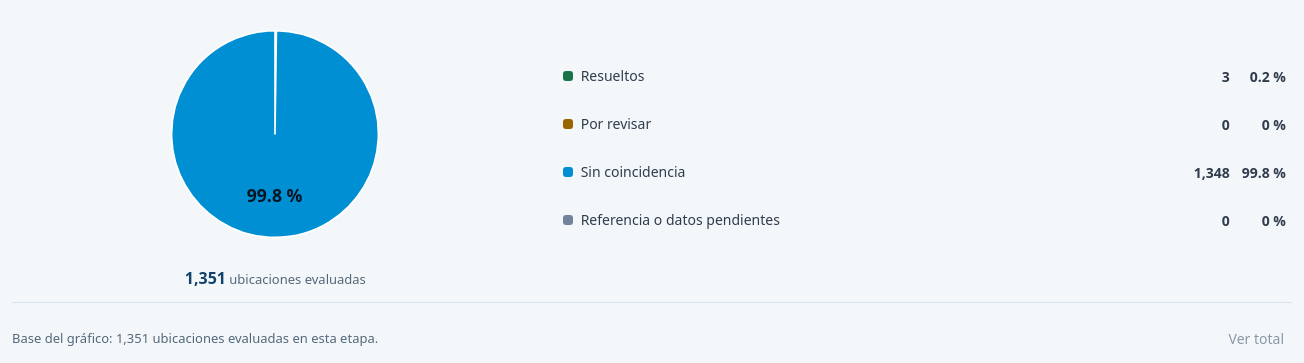
Scenario: interactive stage distributions › keeps a small category visible and inspectable instead of rounding its slice away
The image size is (1304, 363).
Expected: the element with class "stage-pie-segment" is shown, x1=275 y1=31 x2=277 y2=134
Step 1. Click the button named "Resueltos: 3 de 1,351" → [613, 76], box x1=555 y1=54 x2=1188 y2=98
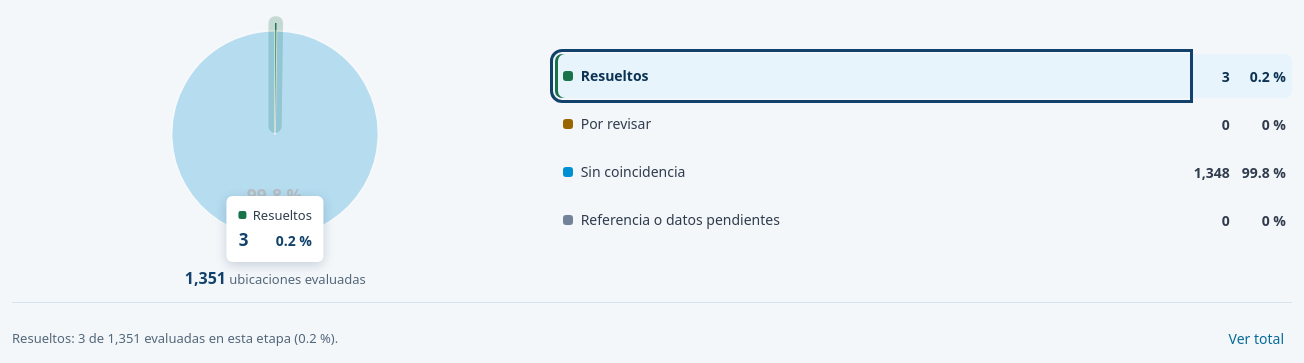
Expected: the element with class "stage-pie-total" shows "1,351", x1=185 y1=267 x2=226 y2=289
Now the text "3" is shown, box x1=239 y1=228 x2=248 y2=251
Now the element with class "stage-pie-tooltip" shows "0.2 %", box x1=276 y1=231 x2=312 y2=250
